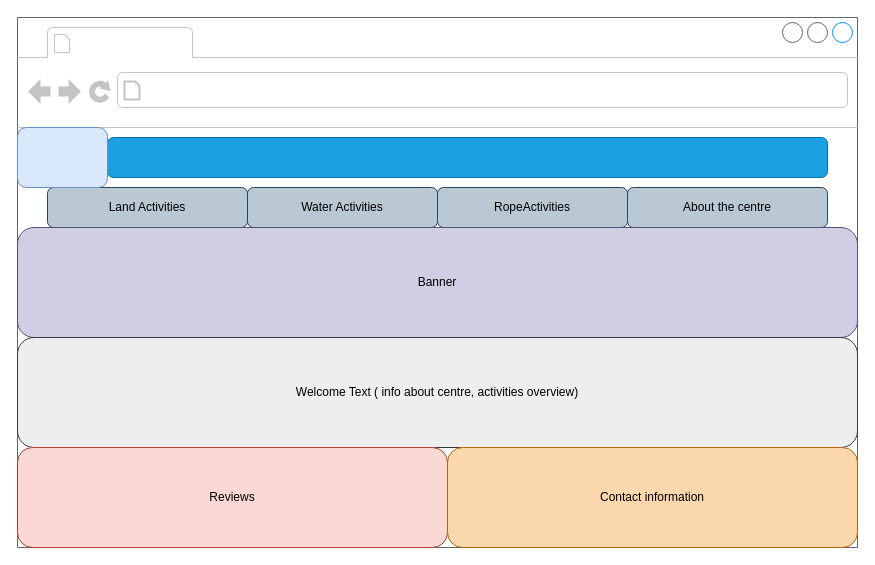
Some shapes in this 875 by 565 pixel diagram are drawn without their labels. The centre of each missing label's shape, as x and y in pixels:
"Homepage" belongs at pixel 132 42.
"https://www.homepage" belongs at pixel 272 90.
"Lochquarry outdoor centre" belongs at pixel 467 157.
"Logo" belongs at pixel 62 157.
